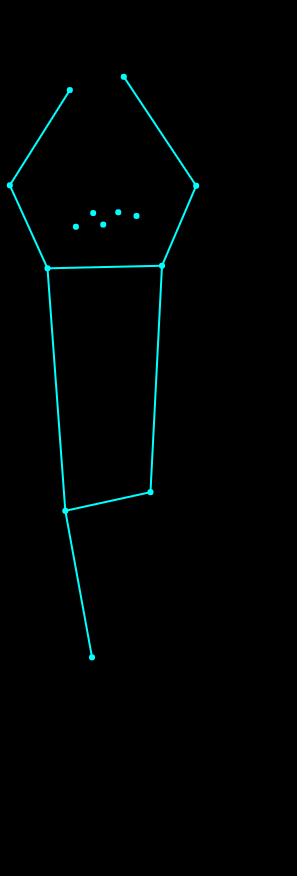tree: (1, 69, 214, 674)
